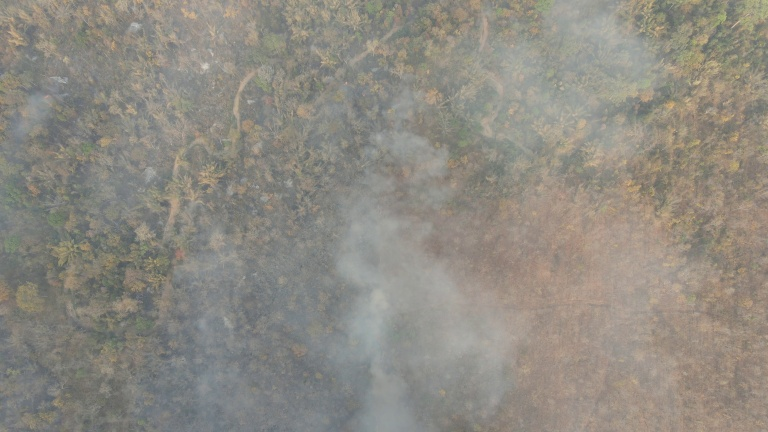smoke: (329, 209, 516, 432), (482, 8, 653, 152)
